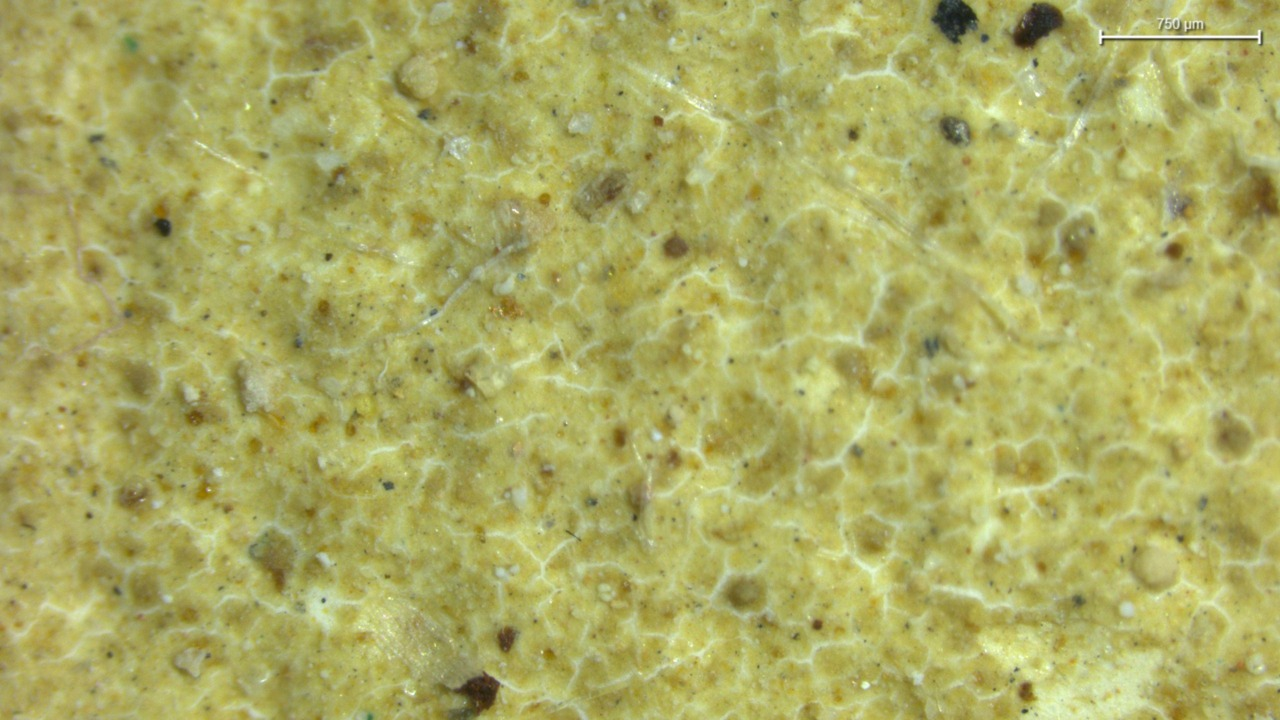microplastic_fragment: (397, 54, 437, 100), (567, 113, 593, 134)
